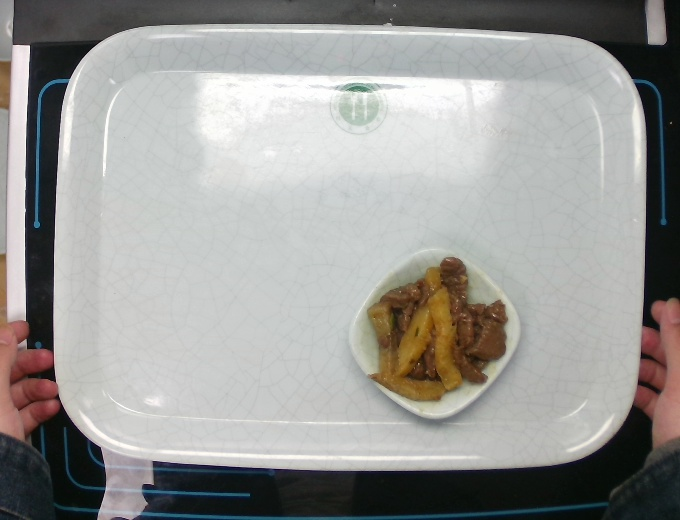JYsf-Si_Fang_Die: (347, 242, 528, 426)
